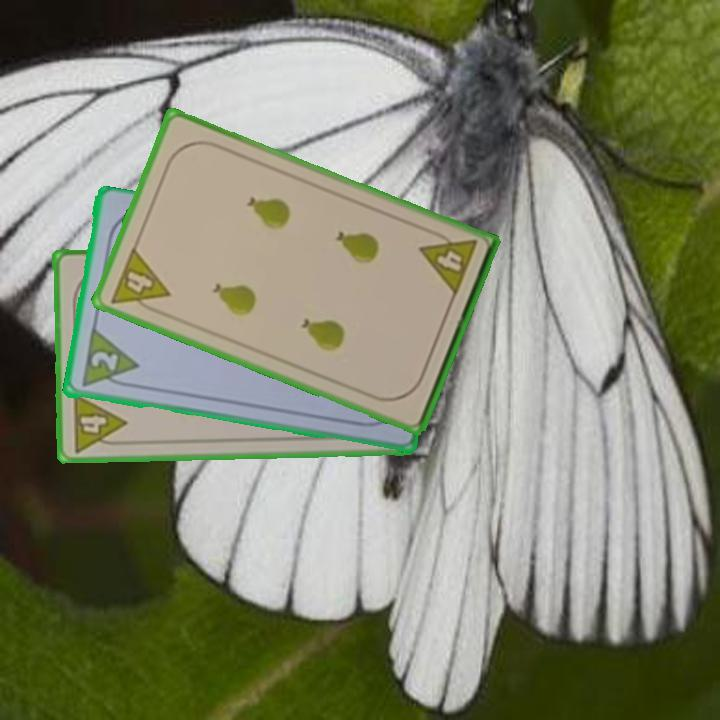2p: (77, 327, 141, 391)
4p: (106, 243, 173, 319), (415, 226, 480, 299), (68, 390, 129, 455)
